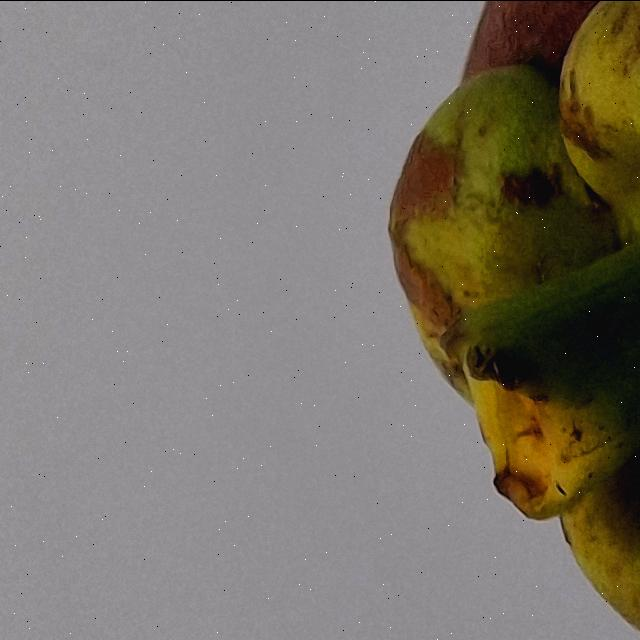mangosteen: (320, 0, 640, 640)
